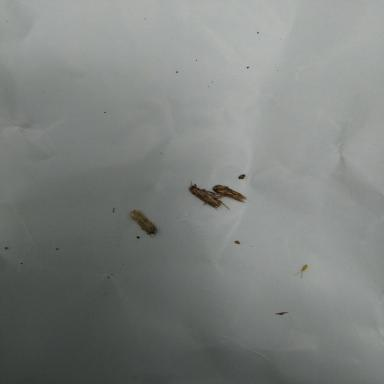pbw: (186, 182, 229, 210), (127, 207, 159, 237), (211, 183, 245, 202)
